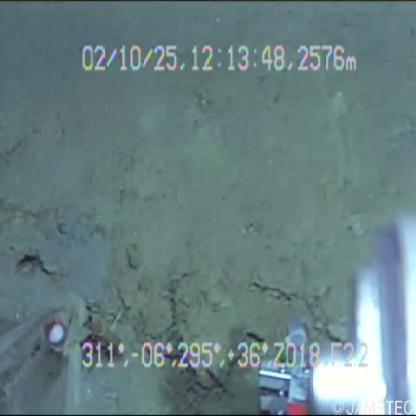Rov: (244, 197, 415, 415)
Rác: (1, 276, 125, 414)
